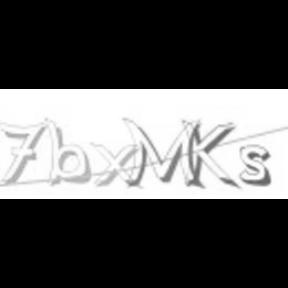7: (0, 120, 48, 184)
K: (181, 116, 238, 190)
M: (122, 112, 200, 189)
b: (42, 116, 92, 188)
s: (238, 144, 272, 188)
x: (89, 142, 143, 190)
